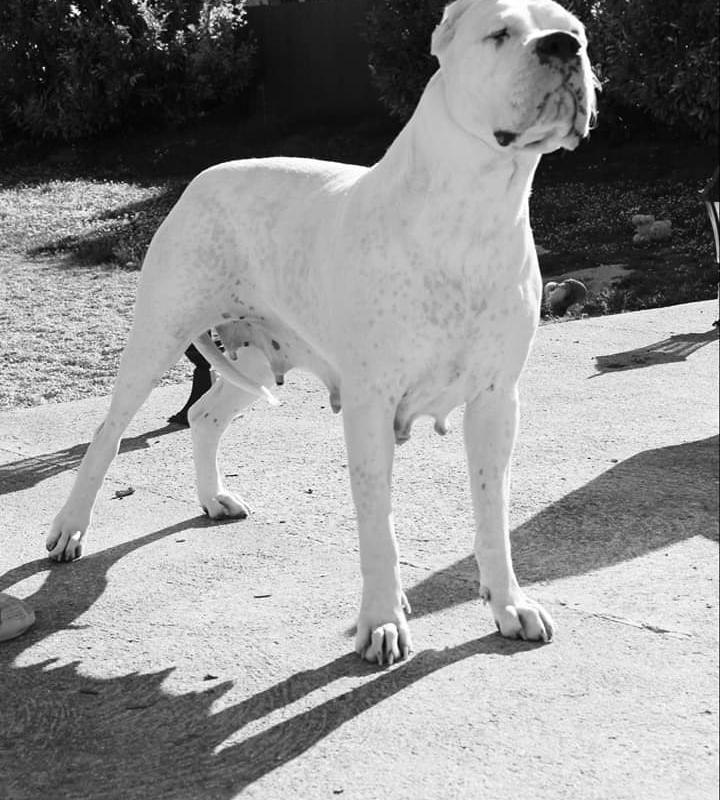dog: (43, 2, 613, 672)
